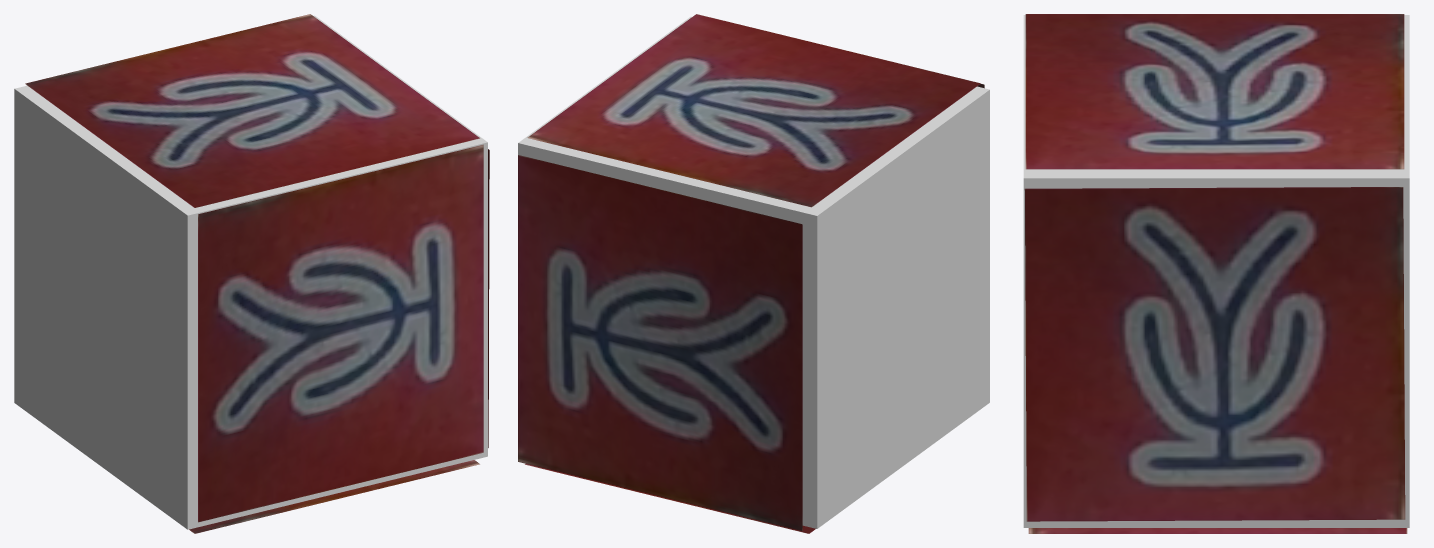
3 views of the same model, side by side, from view 1: azimuth 30°, elevation 25°; view 2: azimuth 150°, elevation 25°; view 3: azimuth 270°, elevation 25° (orthographic). The views are drawn at different scales.
Visible parts, largest first — view 1: R1.002, Link29, R1.001, R1.003; view 2: R1.004, Link29, R1.001, R1.003; view 3: R1, R1.001, Link29, R1.003.
Boxes of the visible parts, x1,y1,x2,y2 form: R1.002: (198,144,483,522); Link29: (14,15,487,529); R1.001: (25,14,479,207); R1.003: (189,460,479,533); R1.004: (518,155,802,531); Link29: (518,16,989,528); R1.001: (527,14,980,207); R1.003: (525,464,815,533); R1: (1024,187,1405,521); R1.001: (1025,14,1404,169); Link29: (1023,15,1409,527); R1.003: (1028,528,1407,533).
Size of the model in its own units: 0.3524 by 0.3641 by 0.3644.
1 material, 1 textured.
